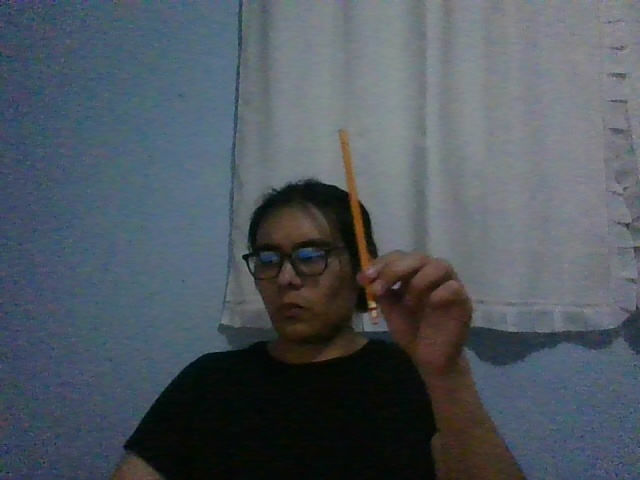lapiz: (337, 128, 380, 326)
